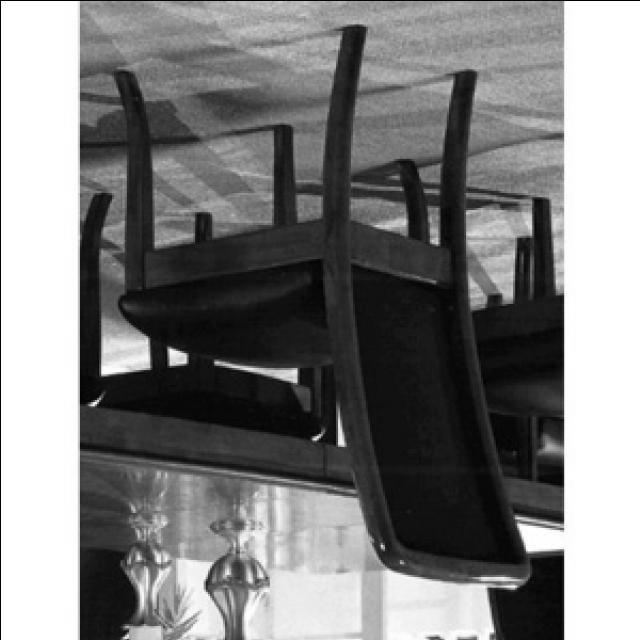chair: (113, 23, 534, 603)
